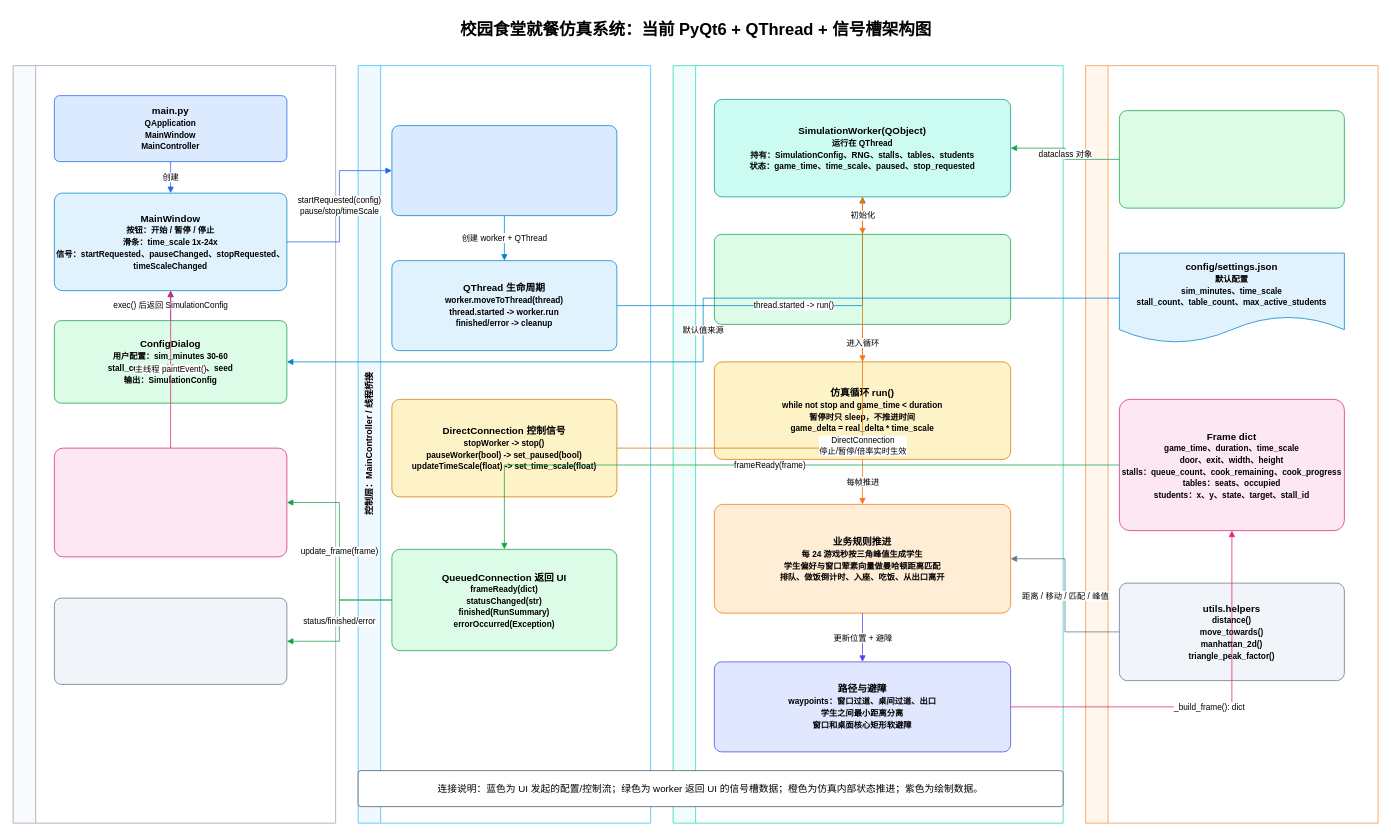
The diagram is 1391 pixels wide and 836 high, and some of its shapes have lost their labels. The box of each missing label's shape, as (x1, y1, x2, y2) in pixels:
CanvasWidget 绘制 1280x800 逻辑画布 等比缩放适配 2560x1600 大门、出口、窗口、厨师猪、倒计时条、桌子、学生猪表情: (54, 447, 287, 557)
MainController 接收 UI 信号 创建 QThread 和 SimulationWorker 连接跨线程信号槽: (391, 125, 617, 216)
models.entities SimulationConfig Student / StudentState Stall / Table RunSummary: (1119, 110, 1344, 208)
UI 主线程：PyQt6 Widgets: (12, 65, 336, 823)
UI 状态更新 set_status(str) simulation_finished(RunSummary) show_error(Exception): (54, 597, 287, 684)
仿真工作线程：SimulationWorker in QThread: (672, 65, 1063, 823)
初始化布局与实体 画布：1280x800 door=(52,72)、exit=(1228,740) 10 个窗口、24 张四人桌: (714, 234, 1011, 324)
领域数据与绘制数据: (1085, 65, 1378, 823)
